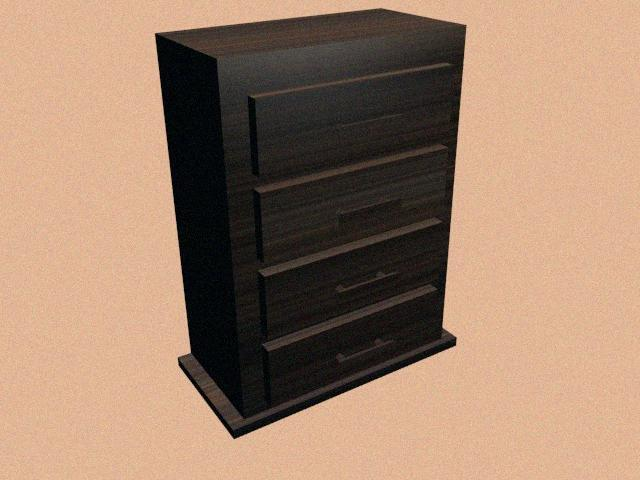cabinet_door: (258, 82, 452, 156), (263, 171, 447, 238), (266, 249, 442, 310), (270, 320, 437, 372)
handle: (326, 261, 406, 303), (326, 330, 403, 372), (331, 186, 407, 226), (326, 106, 409, 139)
